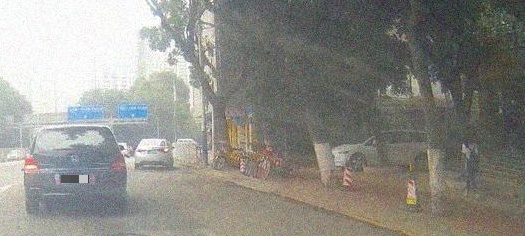L_light: (24, 156, 39, 174), (136, 148, 143, 152)
R_light: (112, 154, 126, 170), (161, 148, 169, 152)
T_light: (68, 127, 82, 131), (151, 140, 156, 142)
day-left: (24, 124, 127, 213)
day-right: (135, 138, 170, 169)
plate_1: (61, 175, 89, 183)
